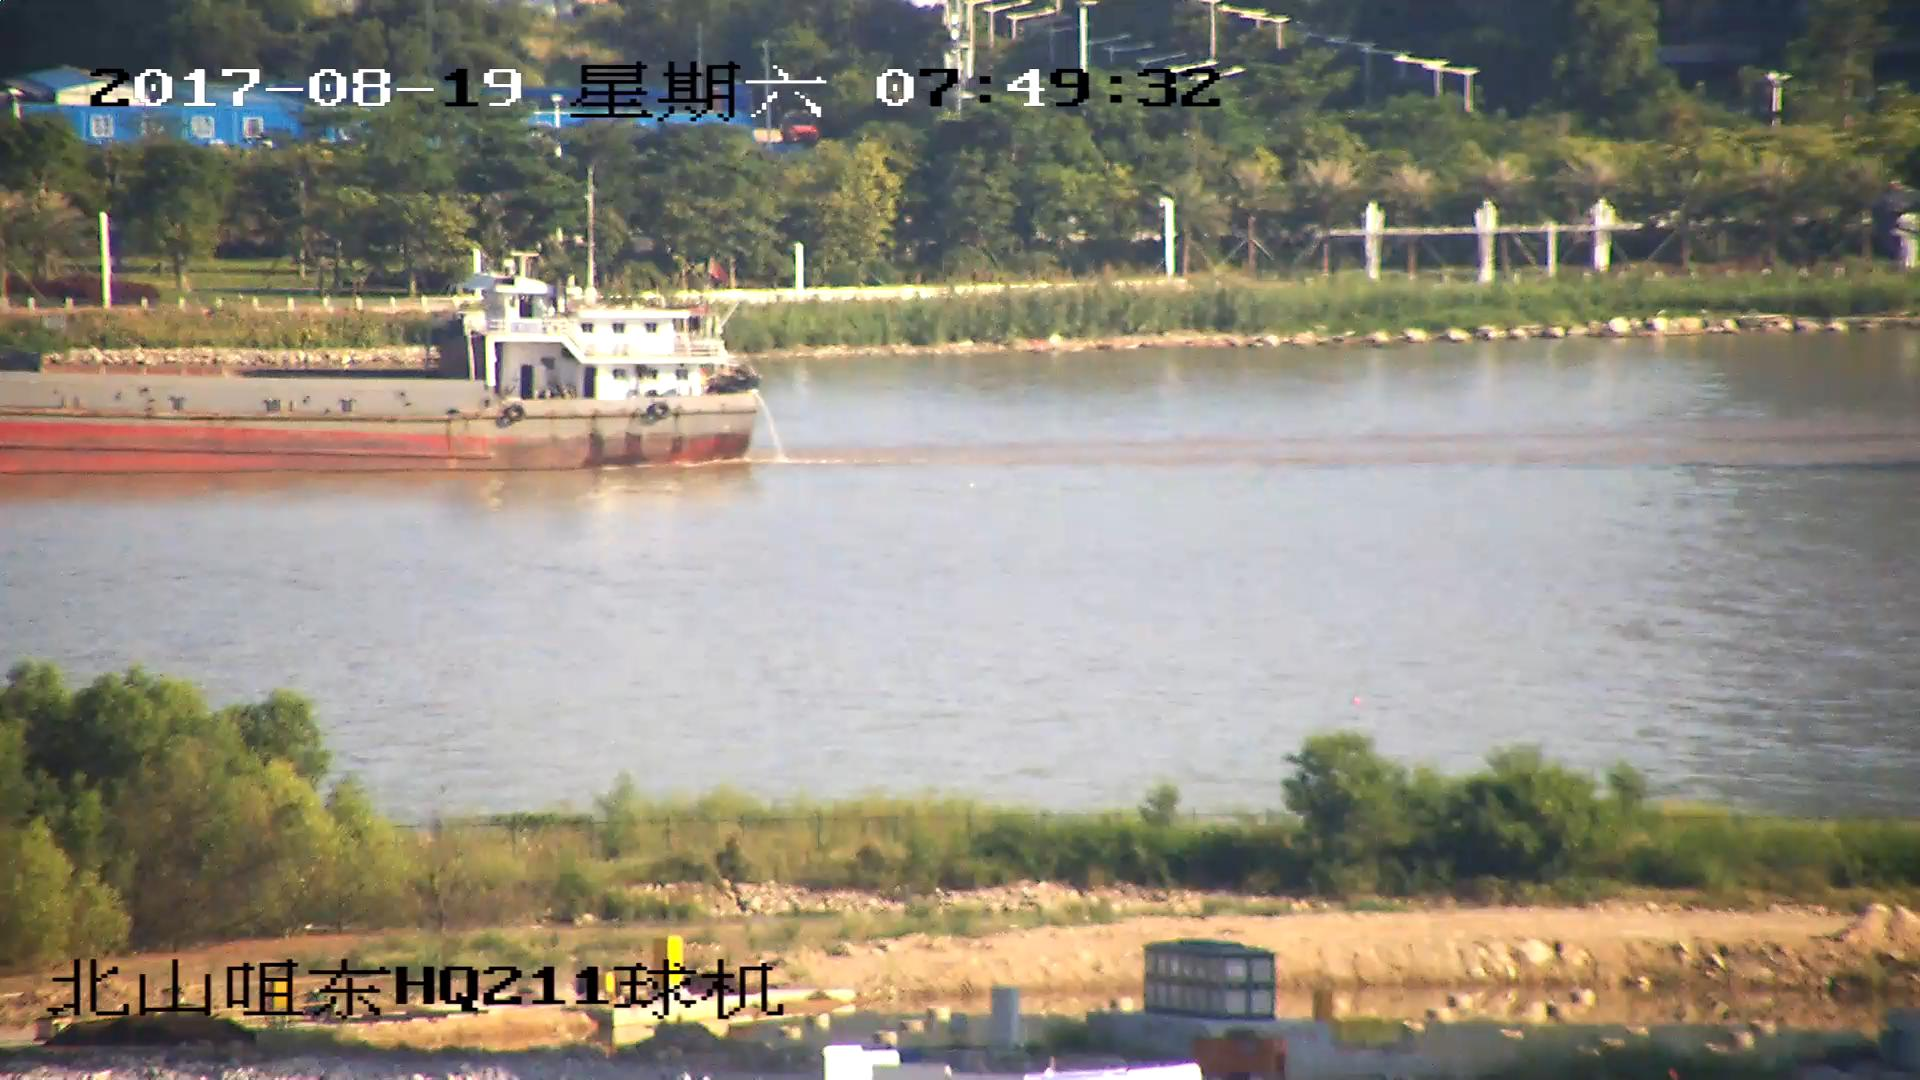bulk cargo carrier: (1, 180, 759, 471)
